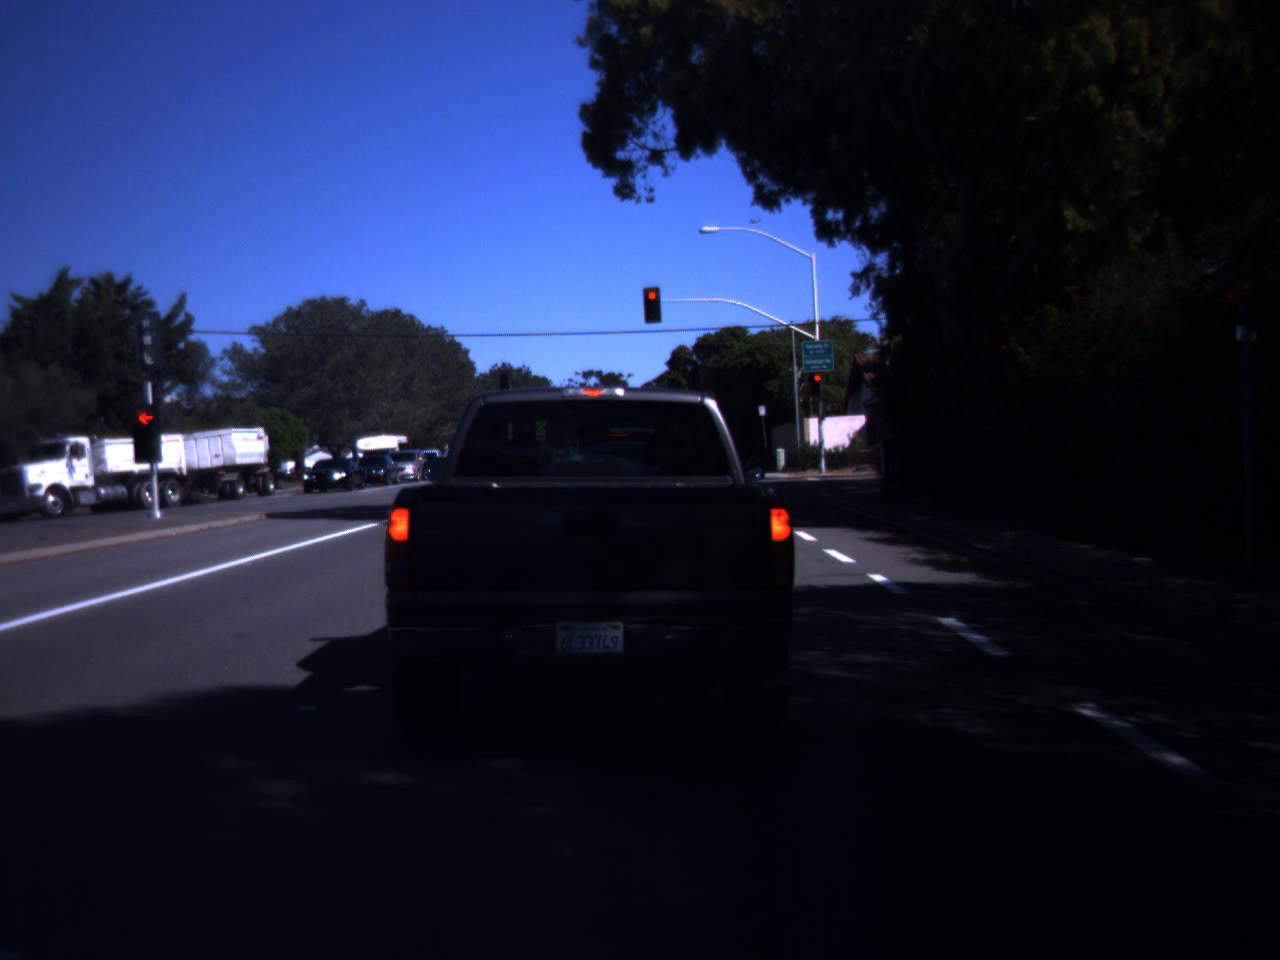stop: (124, 403, 172, 466), (645, 290, 660, 312), (812, 374, 824, 392)
